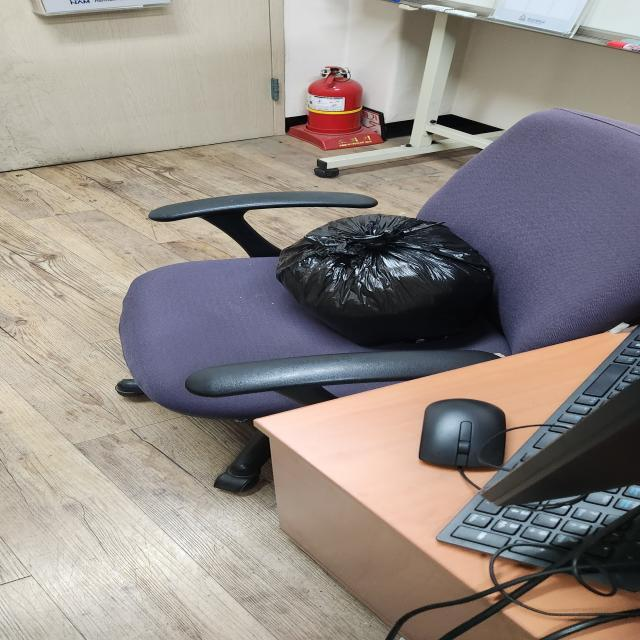black_bag: (273, 202, 497, 361)
